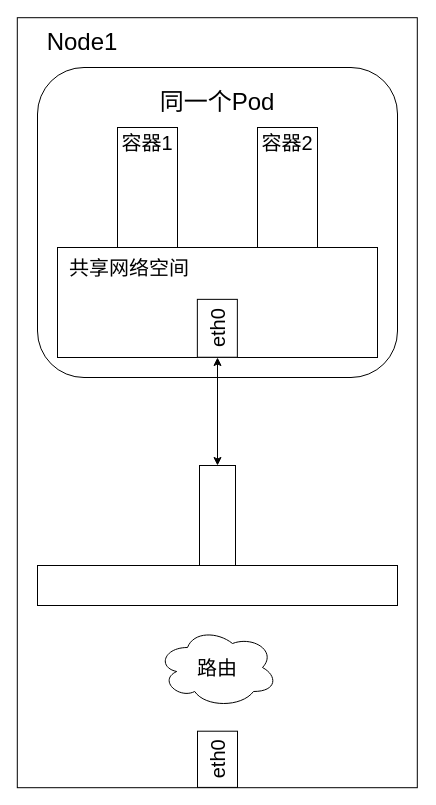
This 436x805 diagram has some shape labels left out. The box of each missing label's shape, as (x1, y1, x2, y2) in pixels:
Docker0网桥: (36, 564, 398, 606)
ethXXX: (198, 464, 236, 566)
